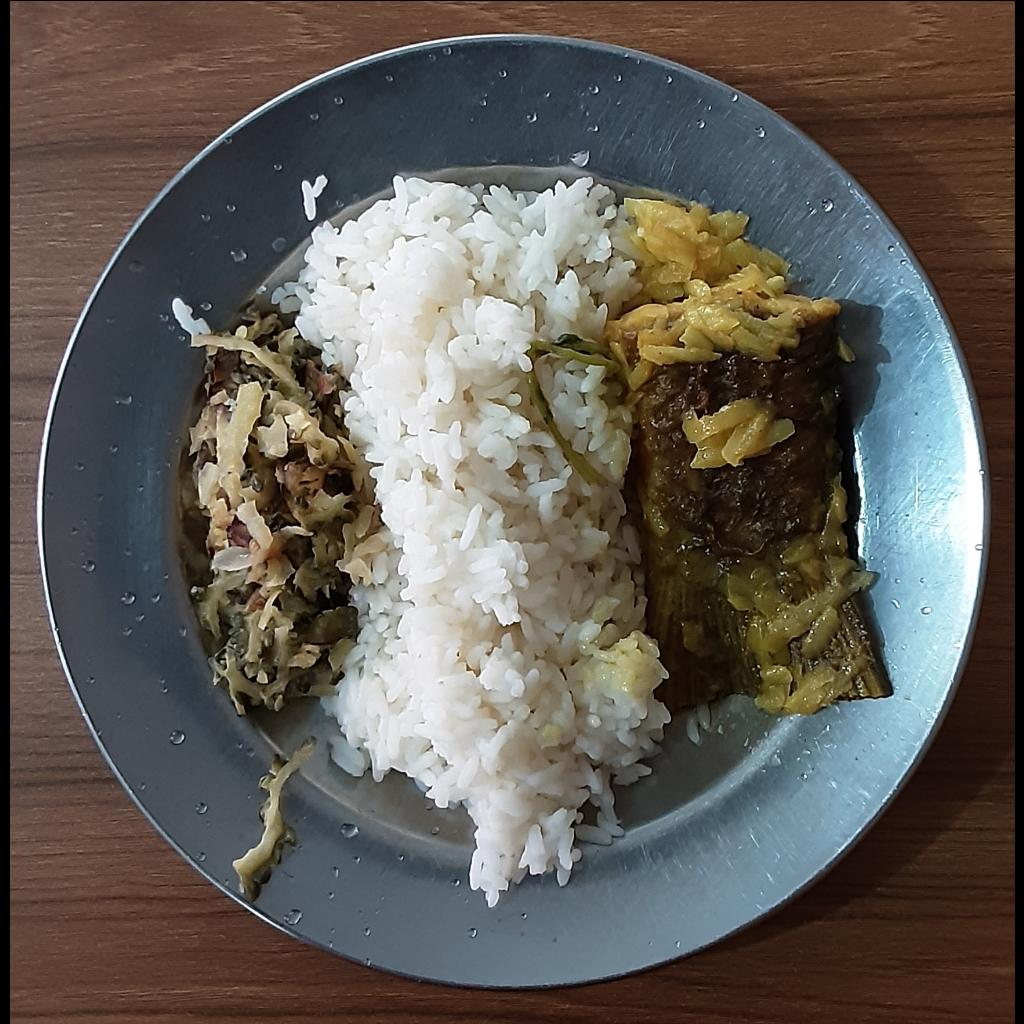fish: (624, 295, 861, 735)
korola-vaji: (179, 303, 381, 719)
kumra-vaji: (726, 469, 884, 729), (608, 197, 809, 387)
rice: (260, 168, 663, 890)
